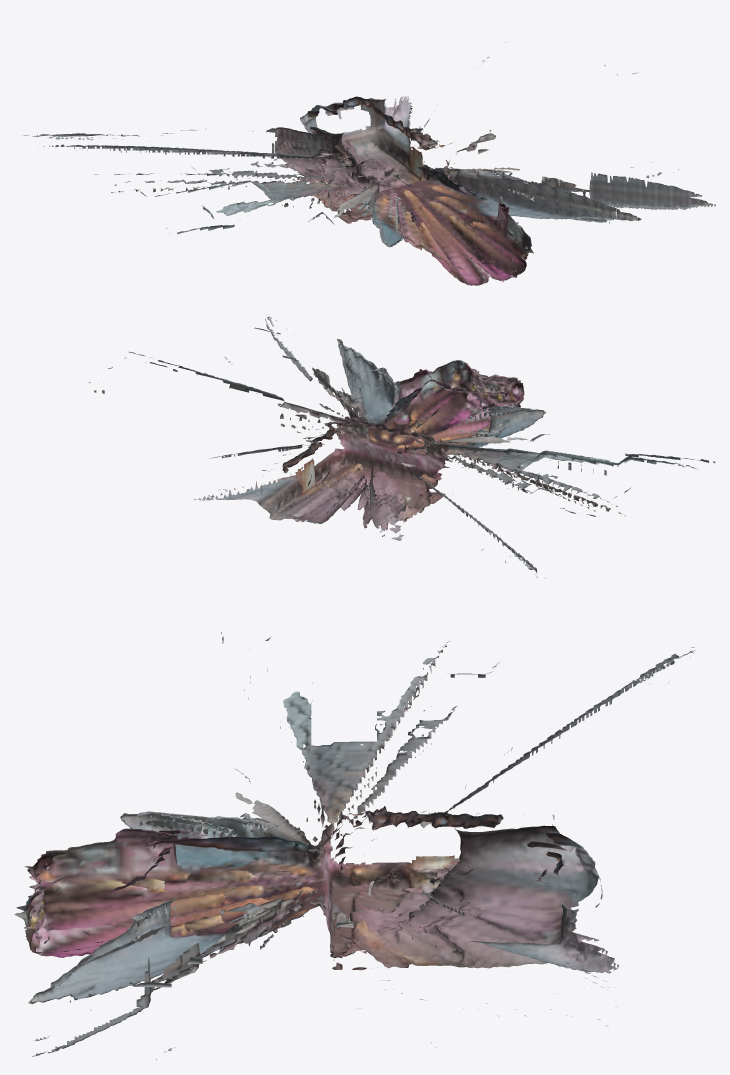
File: gen-3.glb
The picture shows the model from 3 angles, top to bottom: view 1: azimuth 30°, elevation 25°; view 2: azimuth 150°, elevation 25°; view 3: azimuth 270°, elevation 25°; orthographic projection. The views are drawn at different scales.
Parts seen in each view (by area): view 1: world; view 2: world; view 3: world.
Boxes of the visible parts, x1,y1,x2,y2 form: world: [23, 56, 715, 285]; world: [88, 316, 715, 578]; world: [14, 632, 695, 1059].
Size of the model in its own units: 20.03 by 2.81 by 14.29.
